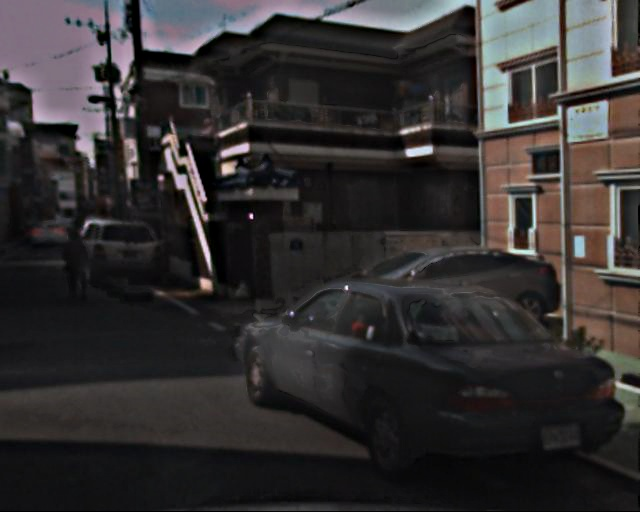person: (61, 228, 91, 302)
